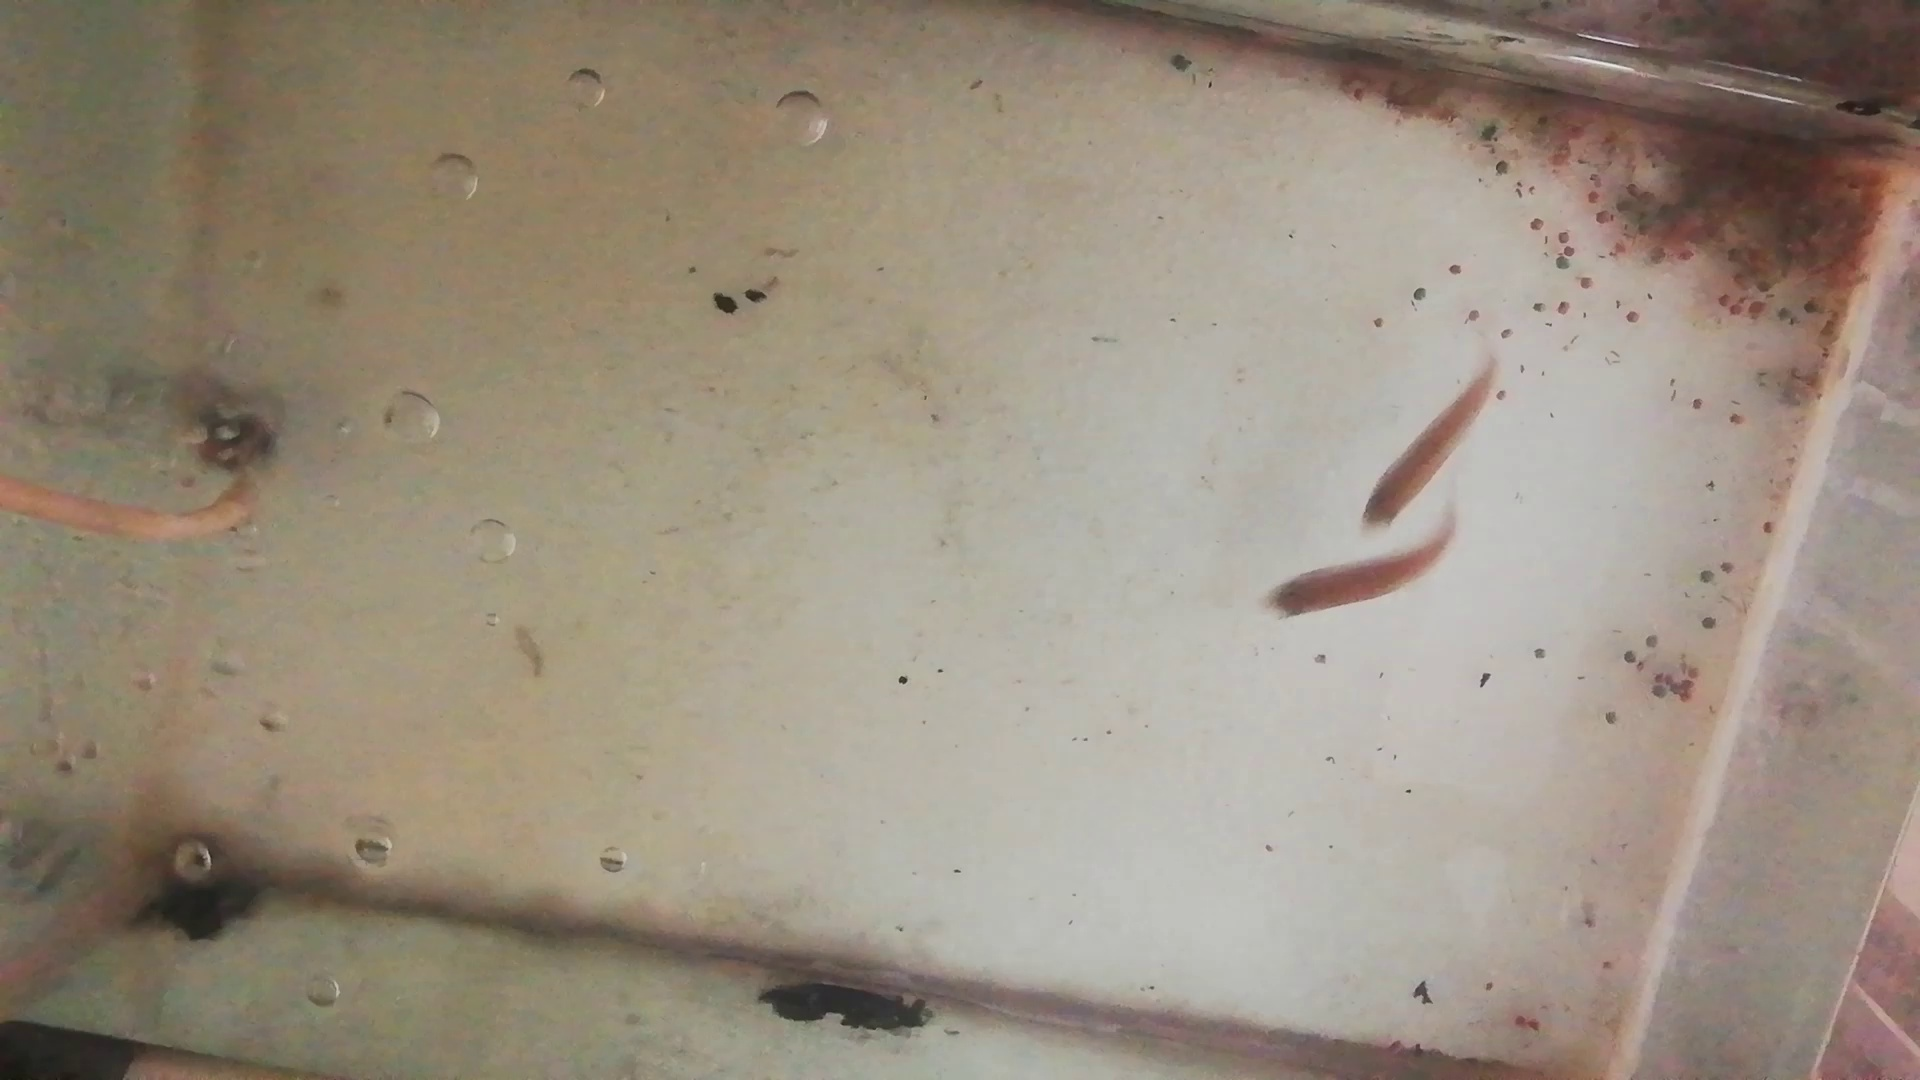fish: (1358, 363, 1501, 530), (1267, 527, 1458, 618)
